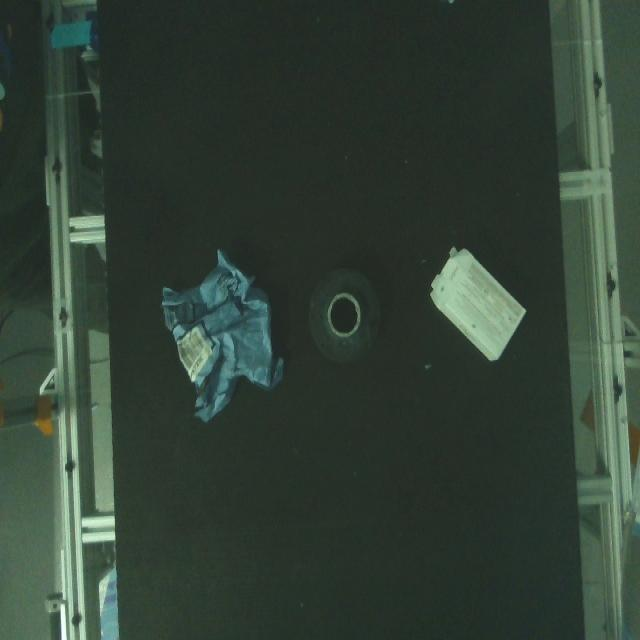non-paper: (306, 262, 388, 378)
paper: (153, 235, 295, 428), (423, 237, 534, 371)
